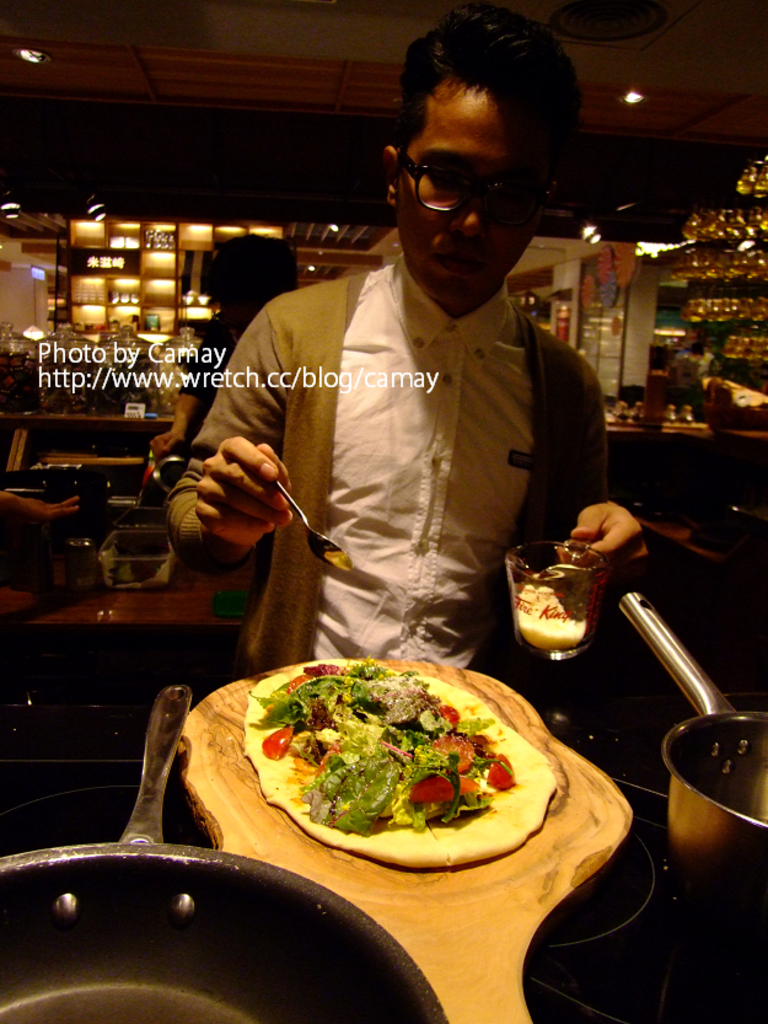taco: (238, 659, 563, 872)
